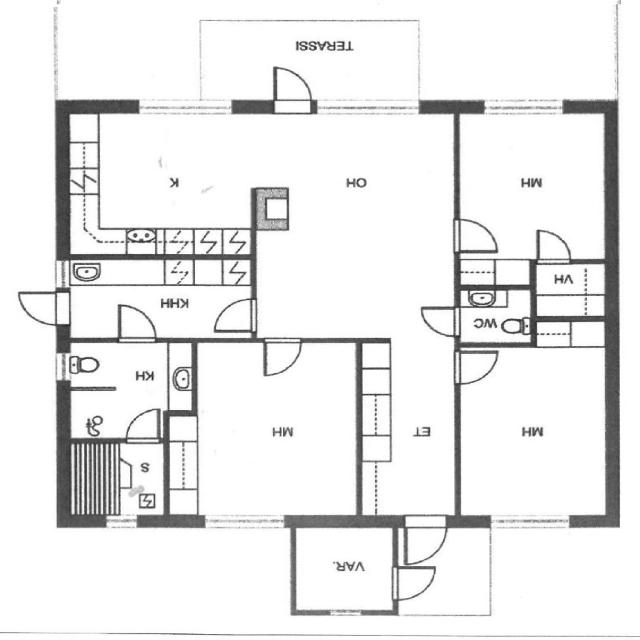door: (79, 349, 187, 448), (396, 514, 452, 568), (267, 63, 317, 114), (447, 212, 503, 256), (389, 560, 440, 605), (111, 301, 162, 343), (527, 224, 577, 266), (15, 288, 71, 325), (452, 345, 502, 386), (258, 336, 304, 378), (416, 303, 466, 339), (121, 406, 165, 446), (209, 296, 257, 332)
window: (310, 95, 426, 125), (130, 93, 242, 123), (481, 508, 579, 540), (472, 94, 572, 124), (196, 509, 289, 538), (100, 509, 144, 532), (50, 349, 71, 386), (321, 605, 368, 621)
zone: (246, 112, 457, 351), (178, 336, 368, 522), (455, 322, 612, 523), (64, 108, 264, 254), (454, 106, 608, 264), (358, 325, 458, 532), (65, 258, 255, 340), (62, 336, 196, 441), (291, 522, 397, 615), (57, 438, 166, 524), (456, 287, 532, 347), (532, 263, 610, 320)
